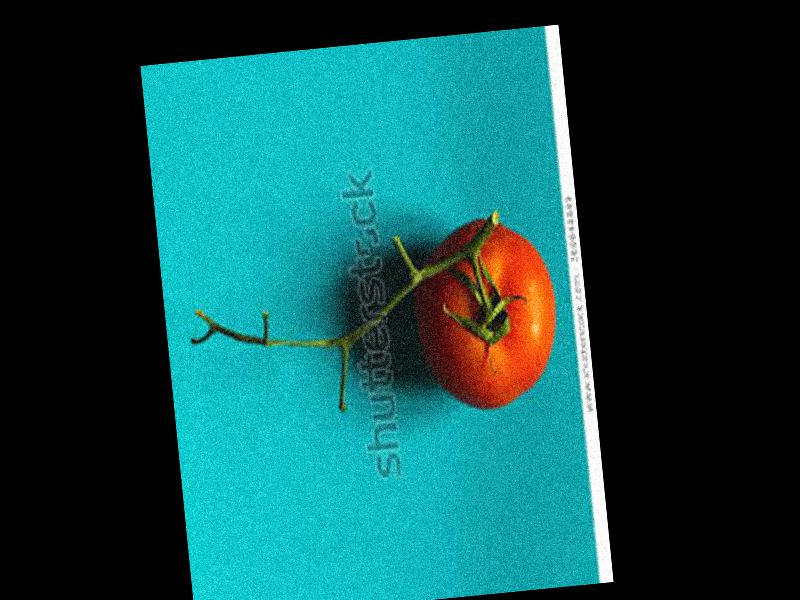Tomato: (410, 211, 562, 414)
